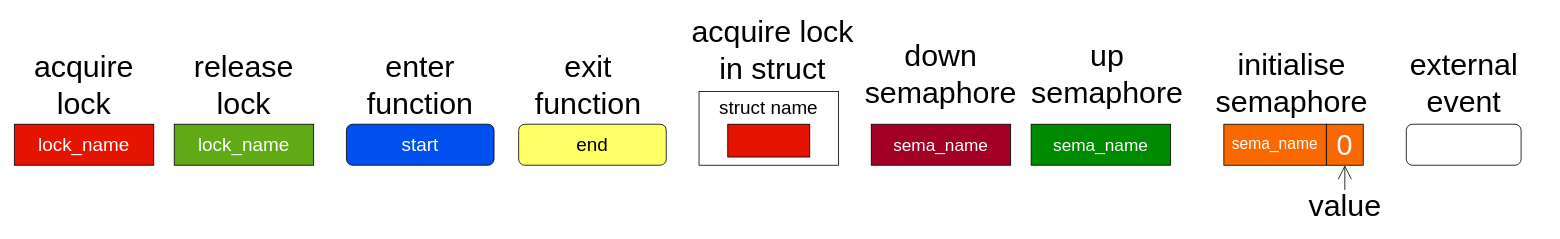
This 1560x239 diagram has some shape labels left out. Each missing label, with the centre of its shape:
lock: (768,140)
syscall: (1463,144)
